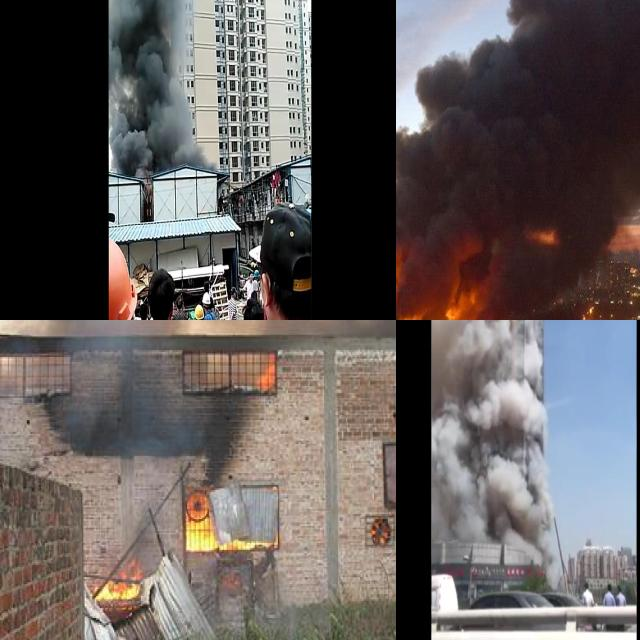fire: (92, 562, 142, 601), (185, 492, 212, 548), (255, 352, 274, 388)
smoke: (396, 0, 640, 317), (429, 320, 533, 530), (110, 0, 213, 176)
